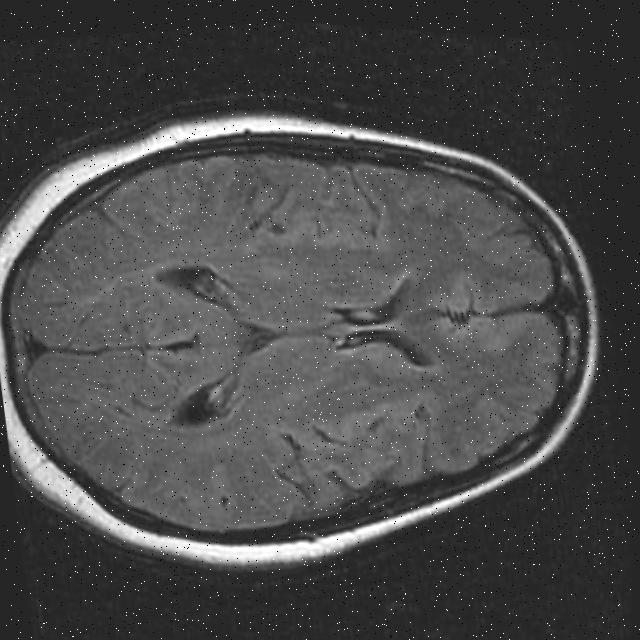NoTumor: (0, 50, 633, 627)
